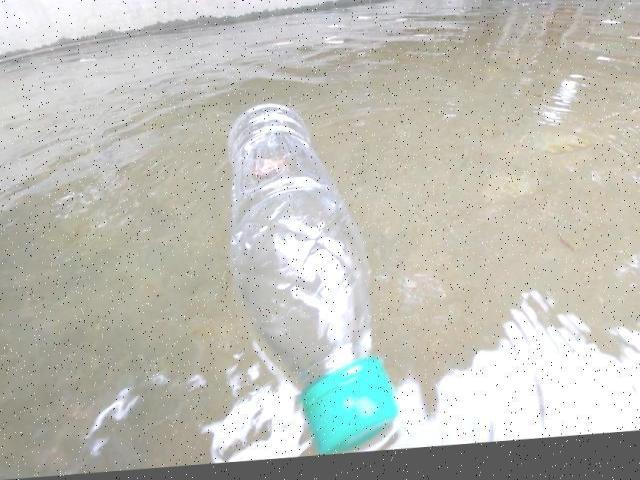Bottle: (227, 102, 403, 454)
